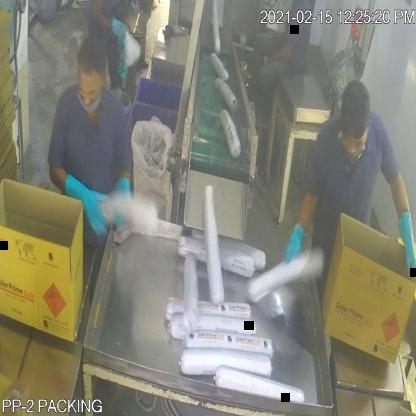glove: (65, 158, 113, 237), (396, 200, 416, 288)
no_glove: (0, 370, 34, 416), (262, 36, 297, 68)
